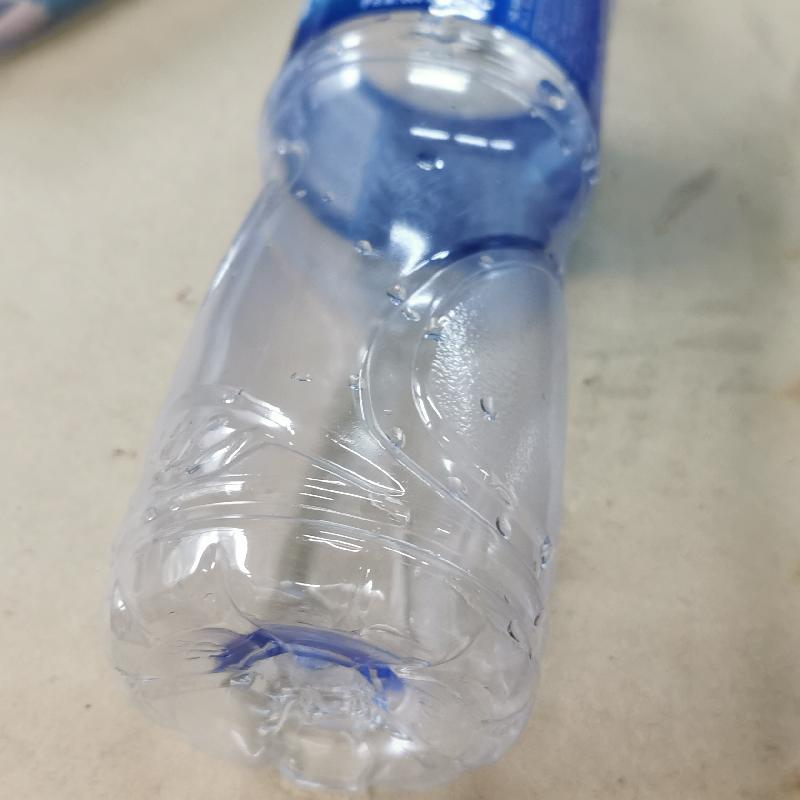bottles: (99, 1, 608, 793)
